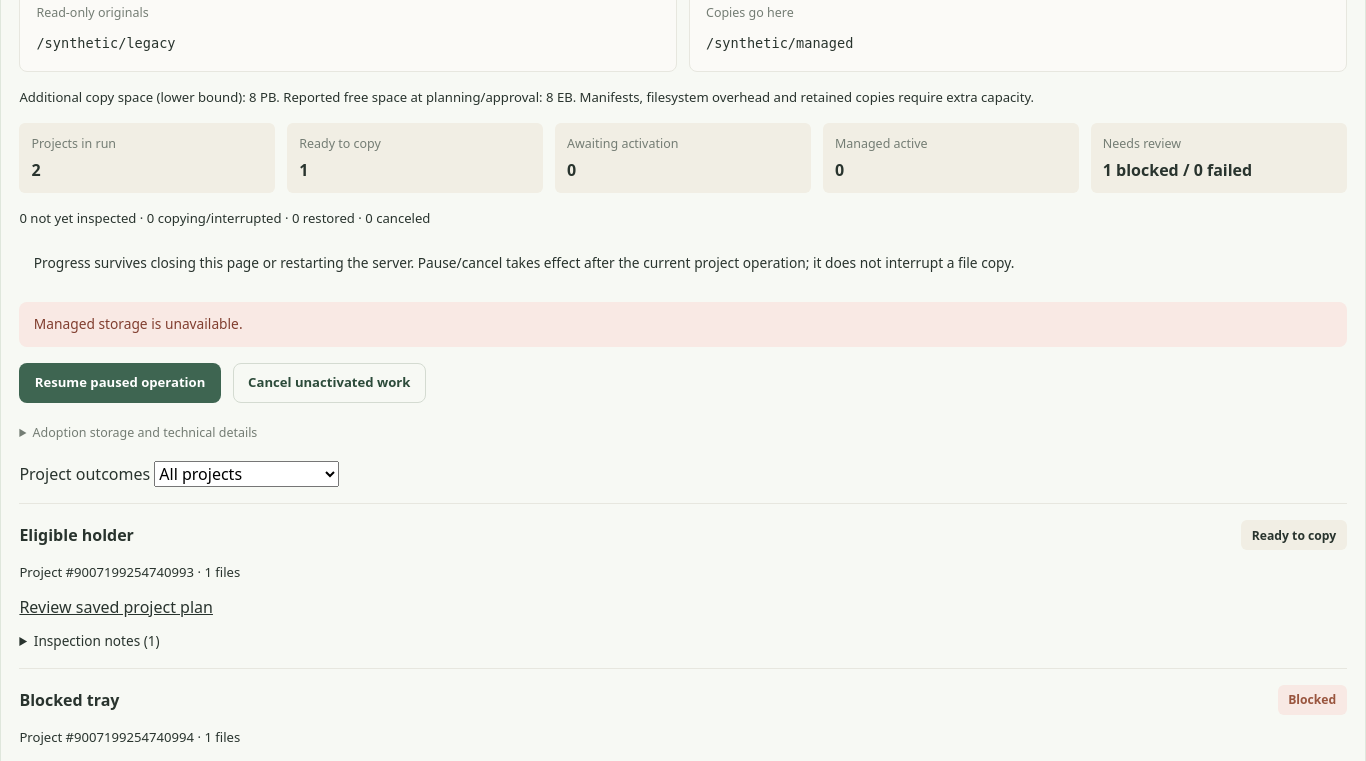
Test: restores bookmarked paused progress without automatically resuming or activating
(page scrolled)
Expected: the message shows "Managed storage", x1=34 y1=314 x2=243 y2=333
Click the button "Resume paused operation". click: (120, 383)
box: x1=19 y1=363 x2=221 y2=403
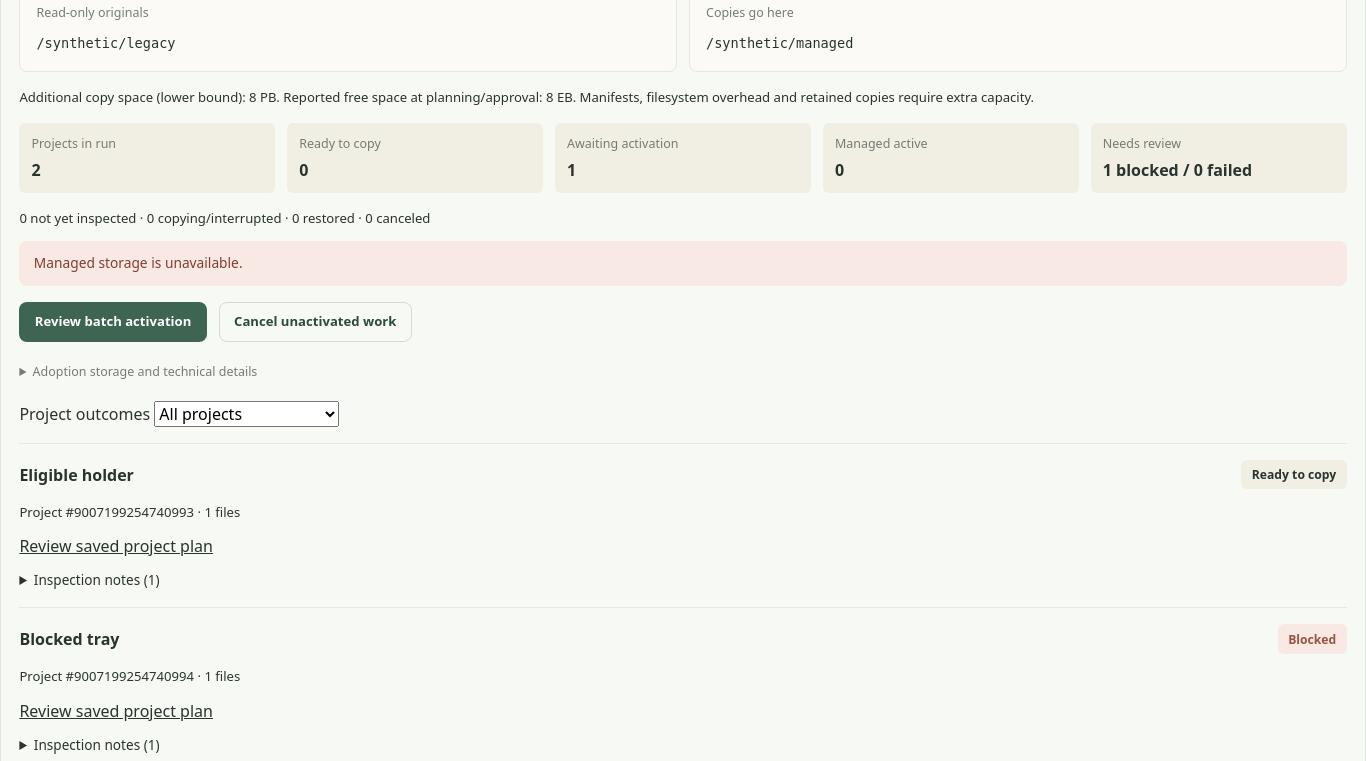
Expected: the button "Review batch activation" is shown, x1=19 y1=302 x2=207 y2=342
